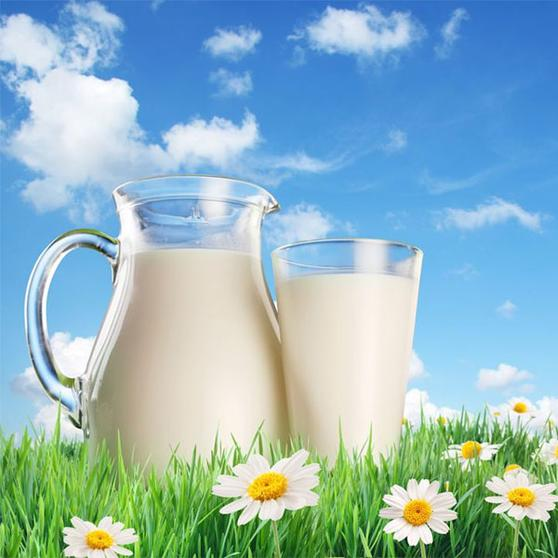milk: (266, 220, 430, 470)
